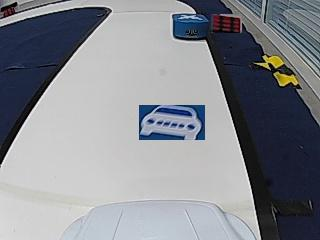prop: (173, 14, 210, 40)
